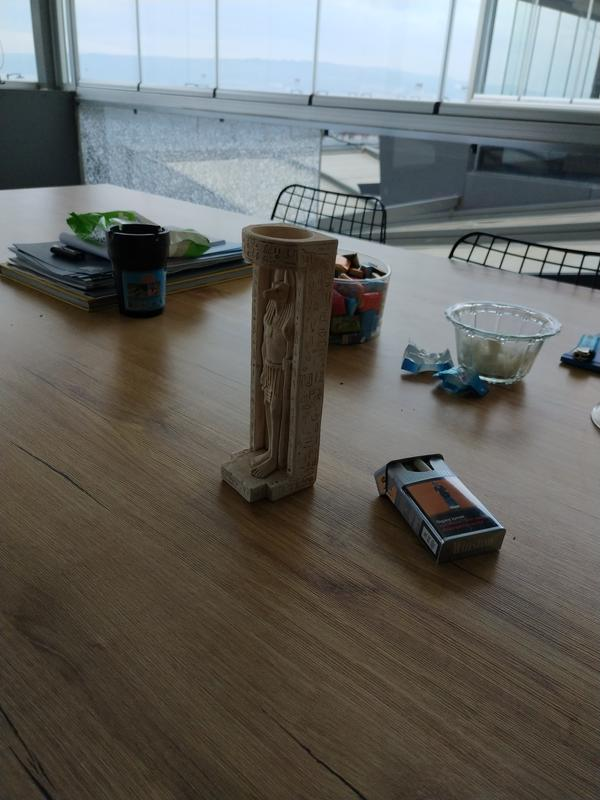heykel: (217, 219, 342, 512)
